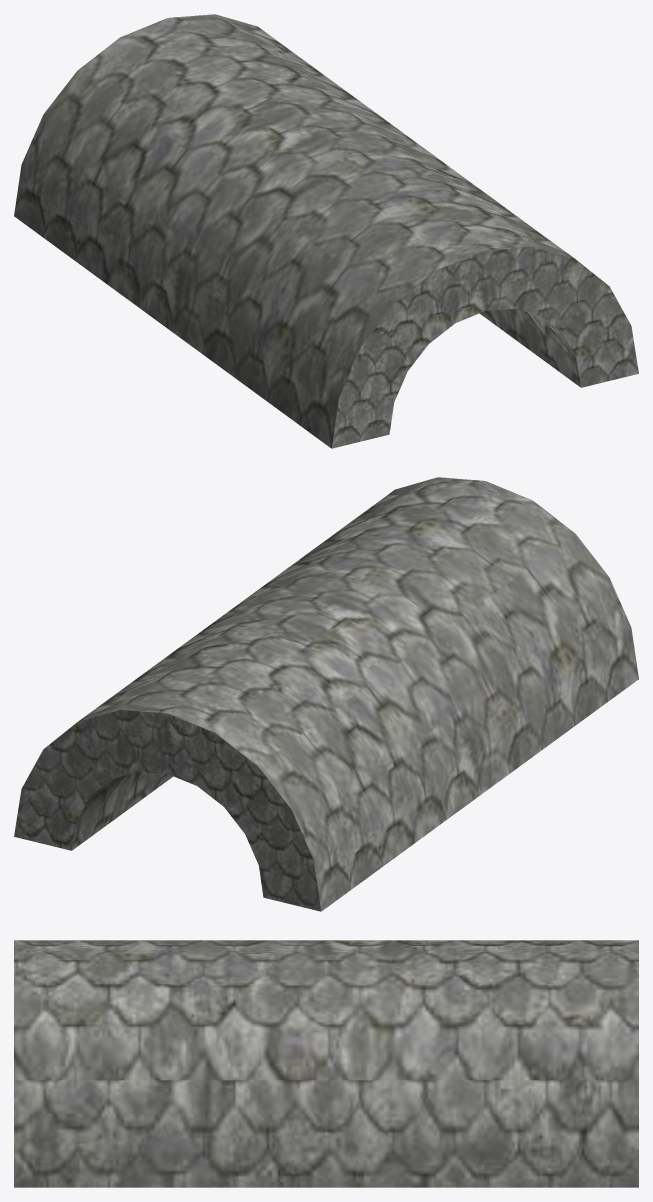
The model's file is coberto final.fbx.
The picture shows the model from 3 angles, top to bottom: view 1: azimuth 30°, elevation 25°; view 2: azimuth 150°, elevation 25°; view 3: azimuth 270°, elevation 25°; orthographic projection.
Visible parts, largest first — view 1: pPipe5; view 2: pPipe5; view 3: pPipe5.
Part boxes in pixels (bbox=[...]): pPipe5: bbox=[14, 14, 638, 448]; pPipe5: bbox=[14, 477, 638, 911]; pPipe5: bbox=[14, 940, 638, 1187].
Bounding box in the file's own units: 7.44 × 3.72 × 13.32.
